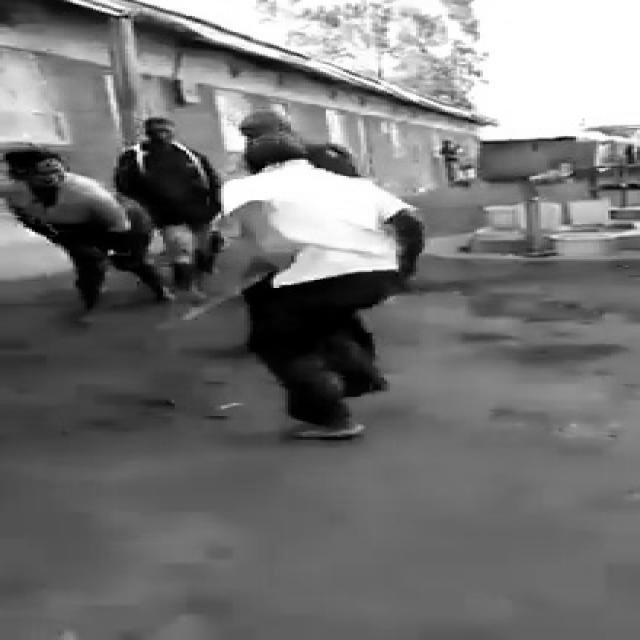weapon: (178, 270, 274, 324), (296, 242, 304, 246)
